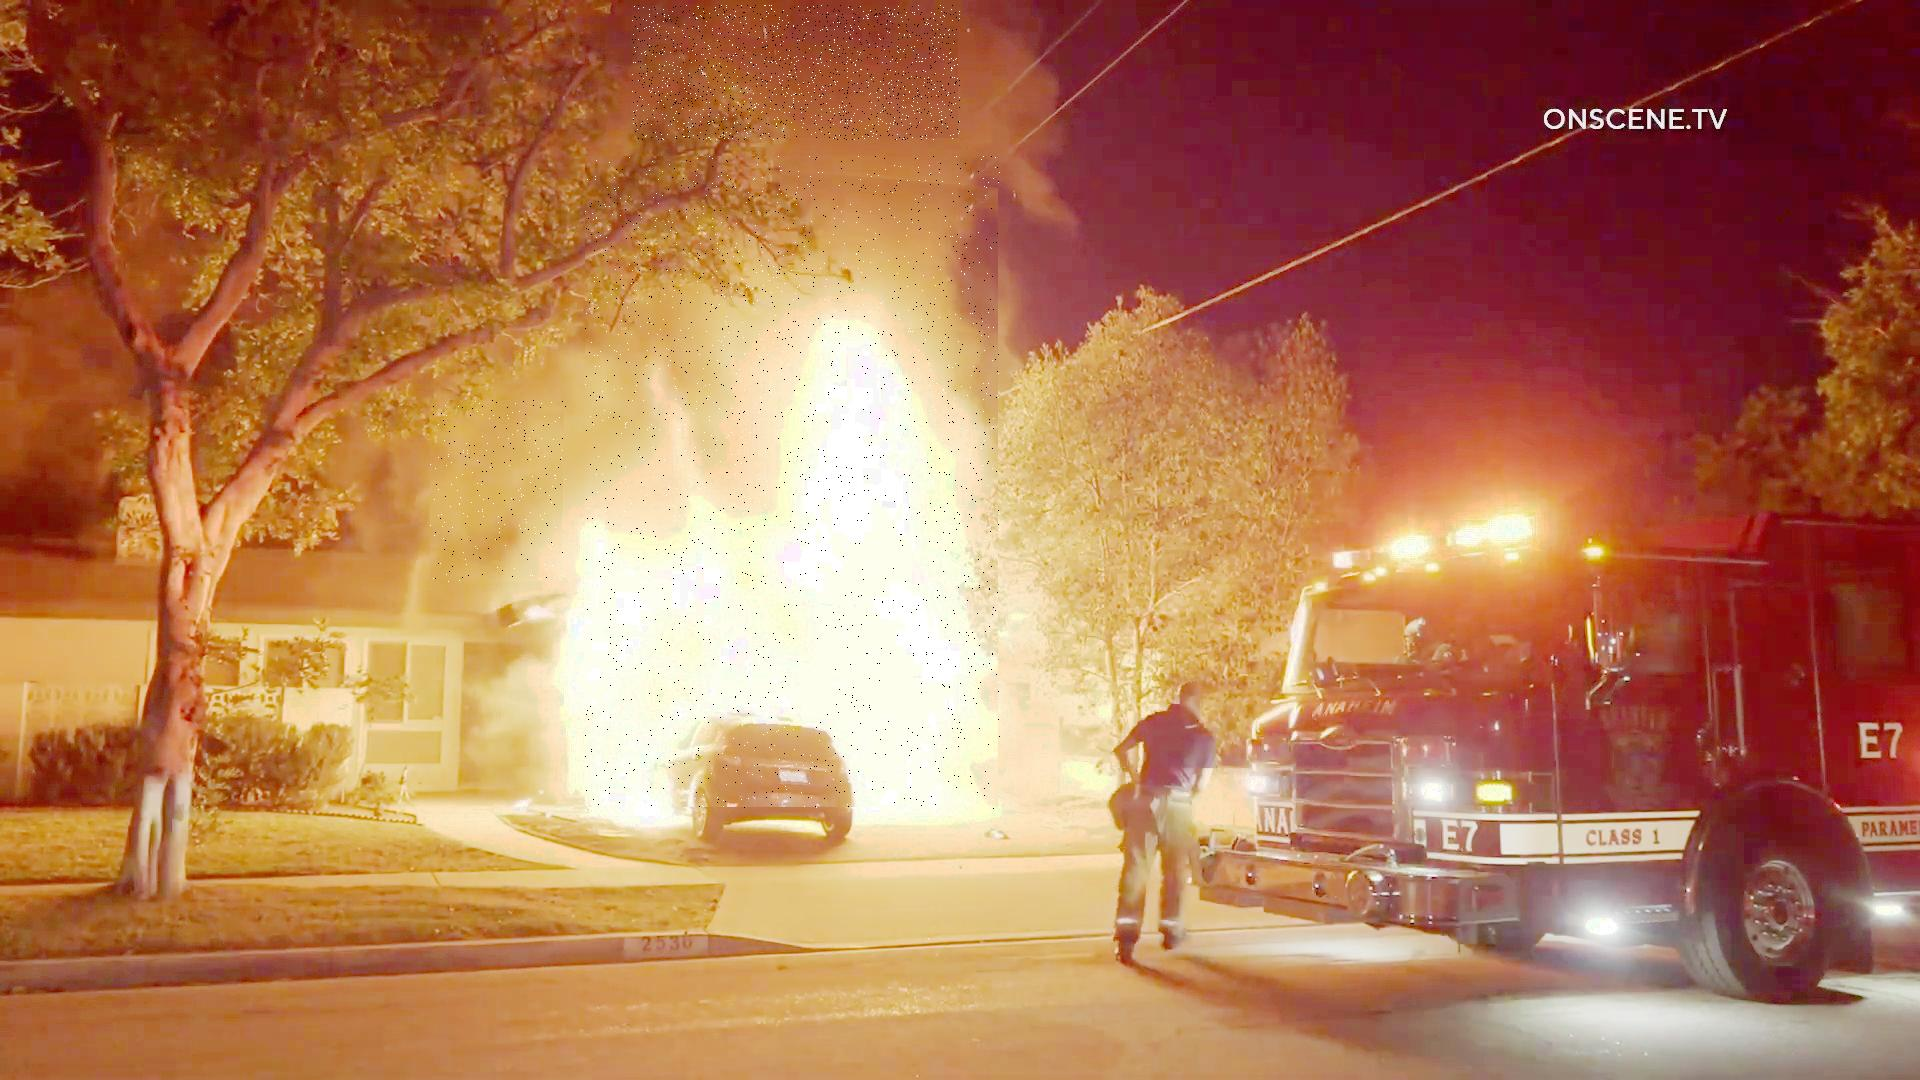fire: (585, 157, 1001, 810)
smoke: (633, 5, 961, 141), (431, 401, 567, 584)
